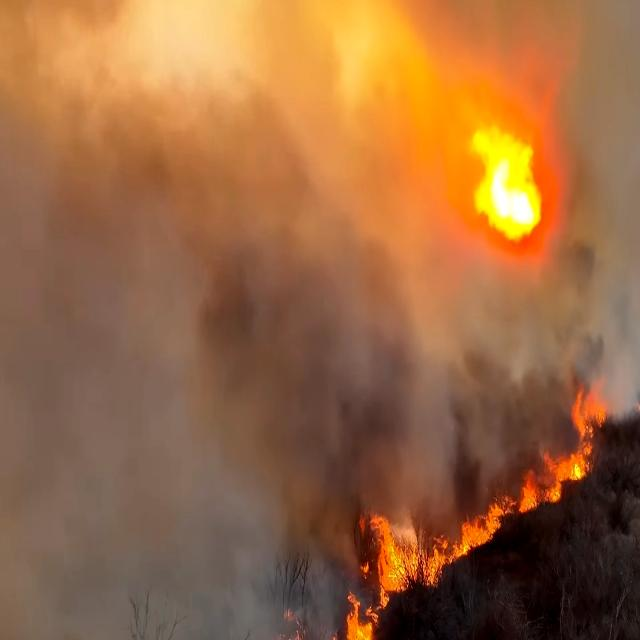fire: (366, 522, 417, 629)
smoke: (0, 0, 207, 640), (217, 158, 400, 500), (457, 368, 553, 472)
